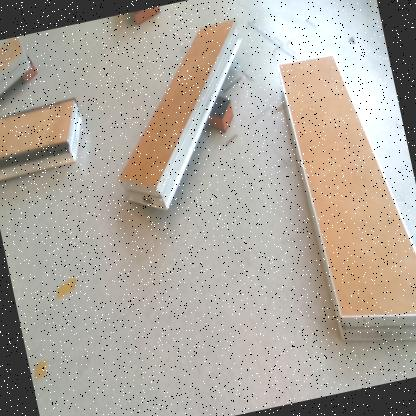Stairs: (278, 54, 416, 343), (120, 17, 244, 215), (1, 101, 81, 183), (1, 37, 30, 96)
